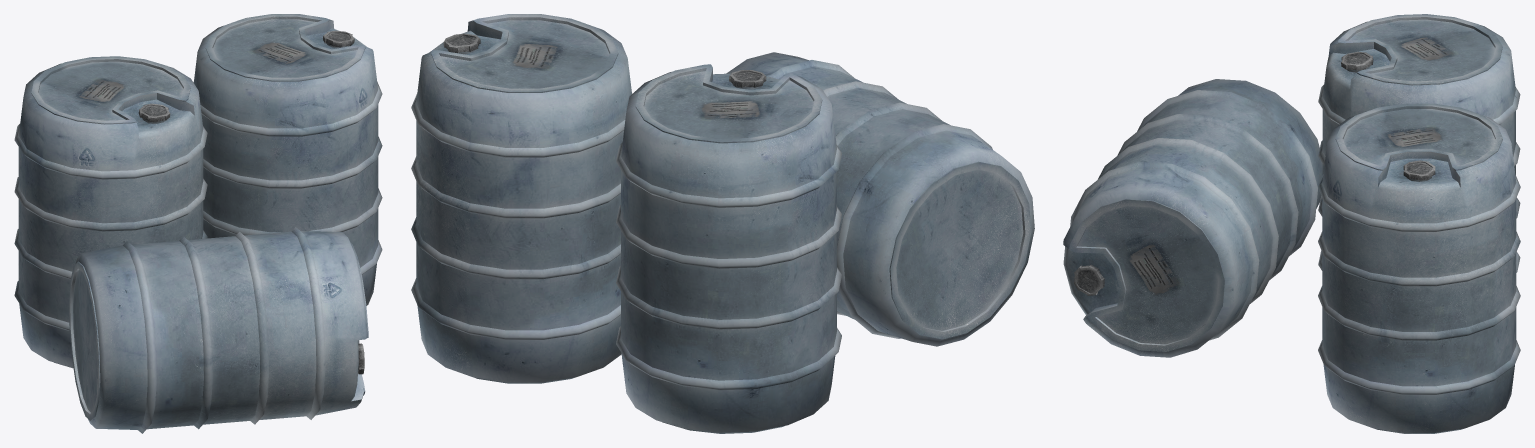
The model's file is water_container.glb.
3 renders of one model, left to right at view 1: azimuth 30°, elevation 25°; view 2: azimuth 150°, elevation 25°; view 3: azimuth 270°, elevation 25°, orthographic. The views are drawn at different scales.
Parts seen in each view (by area): view 1: Material2; view 2: Material2; view 3: Material2.
Part boxes in pixels (box(x1,y1,x2,y2)): Material2: box(14, 14, 382, 433); Material2: box(411, 14, 1034, 433); Material2: box(1063, 14, 1520, 433).
Bounding box in the file's own units: 64.99 × 39.44 × 62.74.
3 materials, 3 textured.
